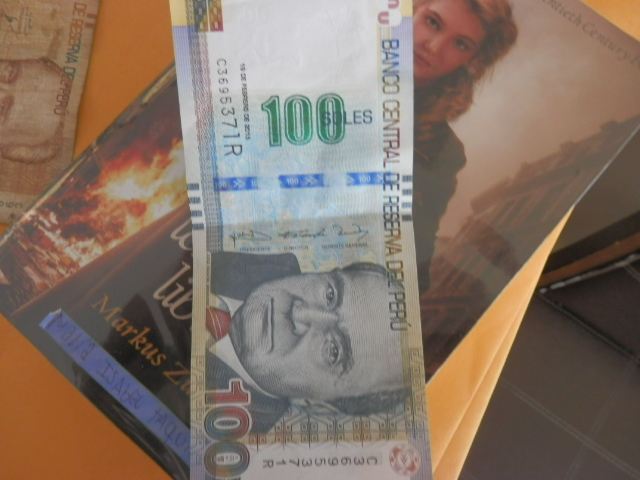B100: (166, 8, 435, 475)
